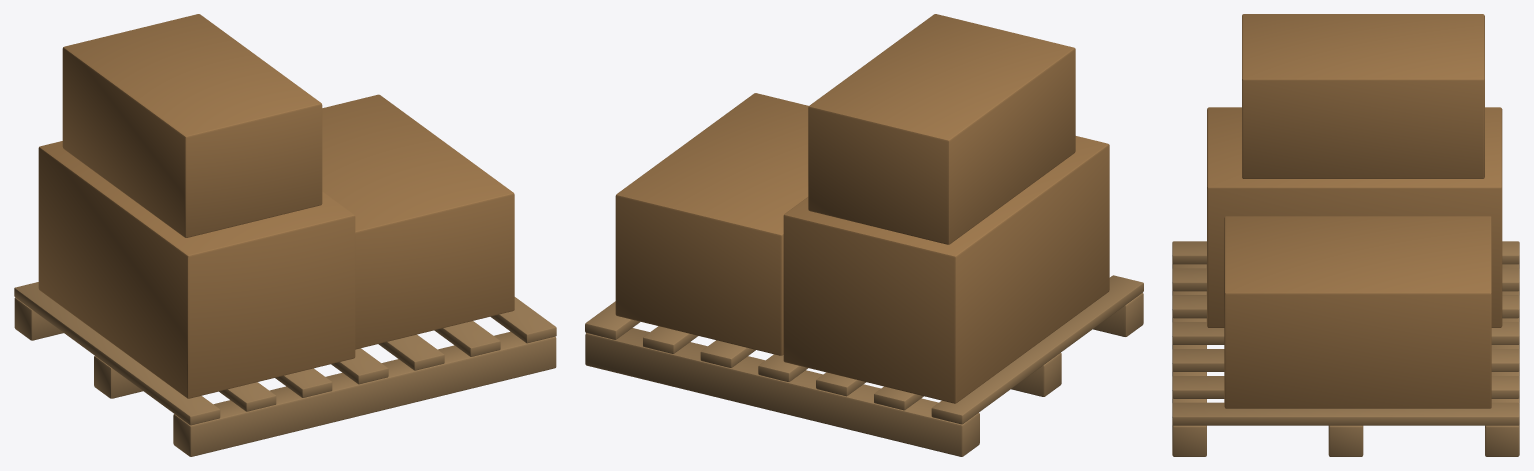
The model's file is pallet.glb.
3 views of the same model, side by side, from view 1: azimuth 30°, elevation 25°; view 2: azimuth 150°, elevation 25°; view 3: azimuth 270°, elevation 25° (orthographic). The views are drawn at different scales.
Parts seen in each view (by area): view 1: pallet; view 2: pallet; view 3: pallet.
Boxes of the visible parts, x1=… form: pallet: x1=14, y1=14, x2=556, y2=456; pallet: x1=585, y1=14, x2=1143, y2=456; pallet: x1=1172, y1=14, x2=1519, y2=456.
Size of the model in its own units: 1.2 by 0.9 by 1.
